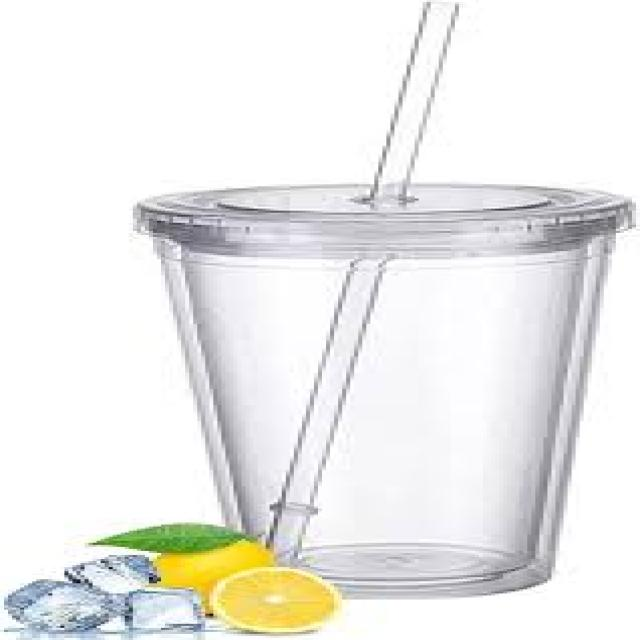cup: (128, 158, 640, 610)
